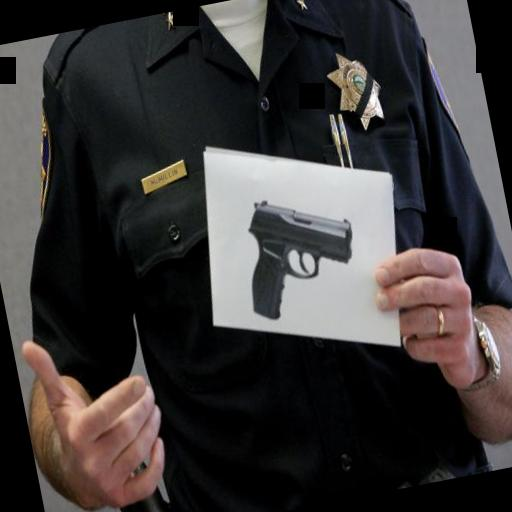Handgun: (222, 174, 366, 328)
